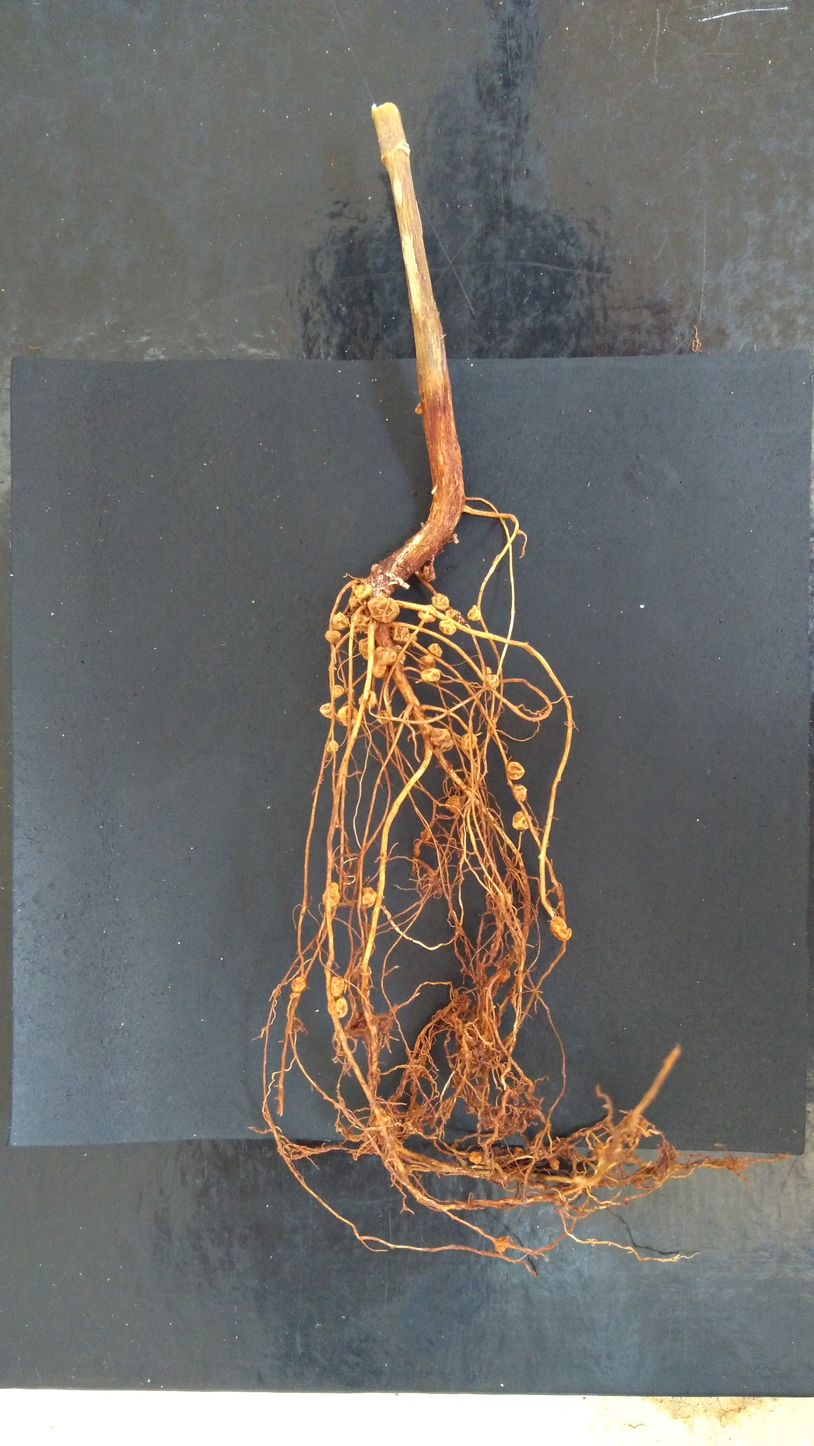nodule: (366, 595, 401, 625), (429, 726, 455, 755), (548, 914, 573, 942), (326, 995, 350, 1020), (321, 880, 342, 907), (335, 704, 359, 727), (511, 809, 531, 833), (360, 885, 379, 910), (357, 689, 378, 711), (505, 760, 526, 782), (349, 611, 370, 632), (417, 603, 438, 624), (351, 583, 374, 601), (444, 793, 462, 816), (430, 592, 450, 612), (459, 731, 479, 751), (436, 618, 457, 637), (390, 625, 409, 646), (329, 975, 346, 998), (374, 646, 397, 663), (419, 667, 443, 683), (494, 890, 513, 910), (330, 611, 348, 632), (317, 701, 335, 720), (289, 975, 308, 993), (494, 1233, 512, 1252), (358, 637, 373, 659), (417, 654, 436, 671), (467, 1149, 485, 1166), (514, 783, 528, 804), (427, 642, 444, 659), (324, 629, 341, 645), (445, 608, 462, 624), (372, 660, 387, 678), (467, 604, 481, 623), (375, 709, 391, 725), (484, 673, 500, 689), (422, 564, 436, 582), (325, 739, 340, 755), (347, 595, 361, 611), (547, 1157, 561, 1172), (497, 967, 511, 982), (333, 684, 346, 700), (378, 1107, 390, 1122), (414, 401, 424, 416), (288, 991, 302, 1000), (512, 1146, 524, 1156), (408, 632, 419, 642), (370, 563, 381, 573), (423, 829, 432, 841), (484, 665, 492, 675)
